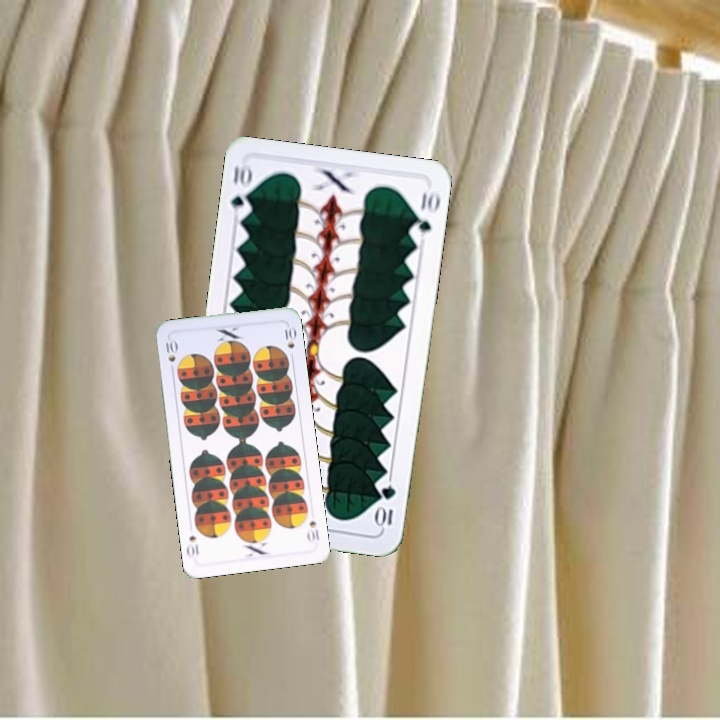G10: (227, 162, 255, 221), (373, 481, 398, 531)
S10: (303, 516, 322, 545), (162, 335, 179, 365)
